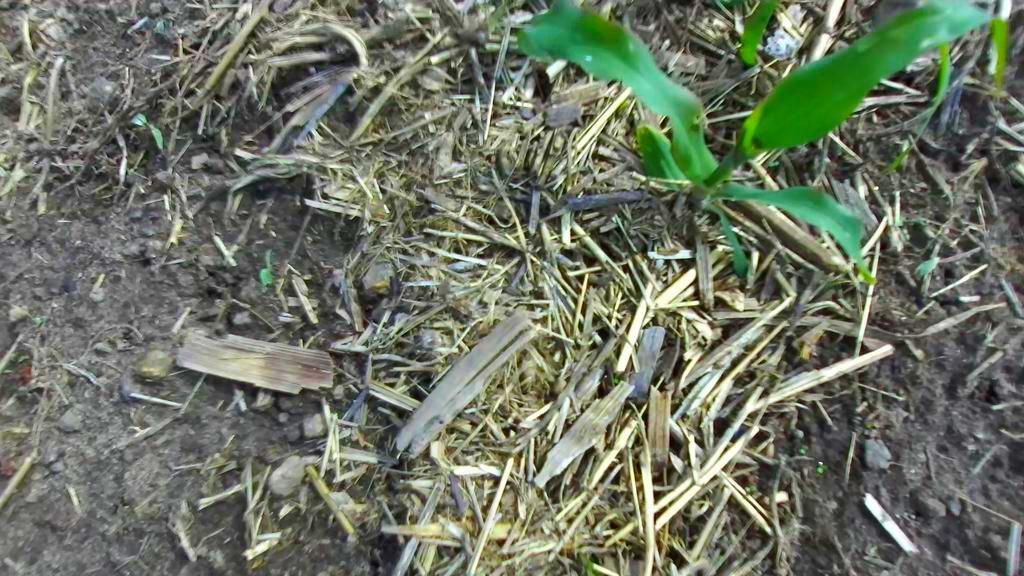BroWeed: (129, 109, 172, 153), (775, 404, 805, 444), (909, 252, 944, 283), (207, 444, 237, 474), (257, 248, 273, 285), (823, 272, 850, 288), (898, 217, 927, 229), (31, 311, 50, 326), (863, 418, 881, 430), (900, 226, 913, 242), (15, 352, 32, 364), (744, 483, 758, 494), (816, 464, 828, 475), (797, 444, 808, 455), (2, 368, 14, 374), (613, 374, 619, 384)
Maize: (517, 0, 1008, 285)
